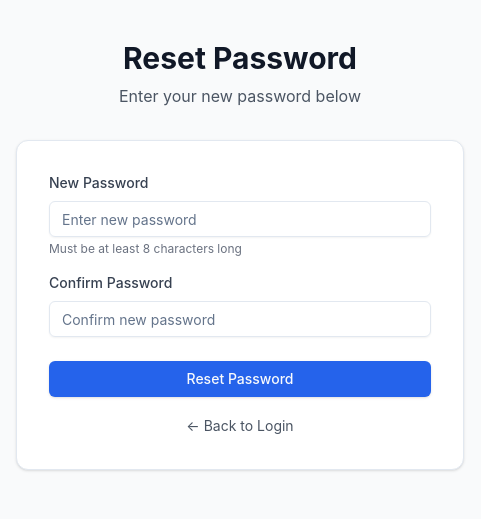
Scenario: ResetPasswordPage - Form Validation › should show error when passwords do not match
The width and height of the screenshot is (481, 519).
Type "password123" into the password field with test id "password-input" at (240, 219), box [49,201,431,237]
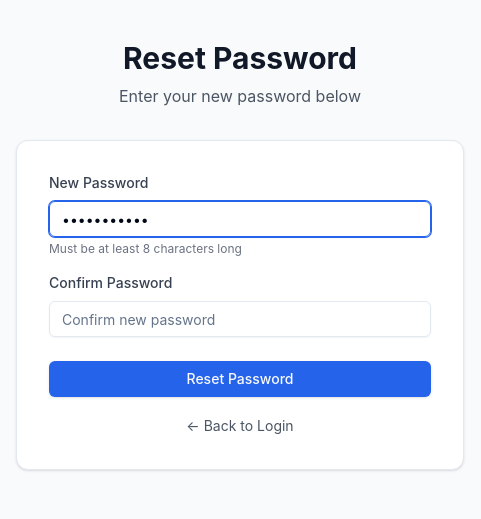
Type "different123" into the password field with test id "confirm-password-input" at (240, 319), box [49,301,431,337]
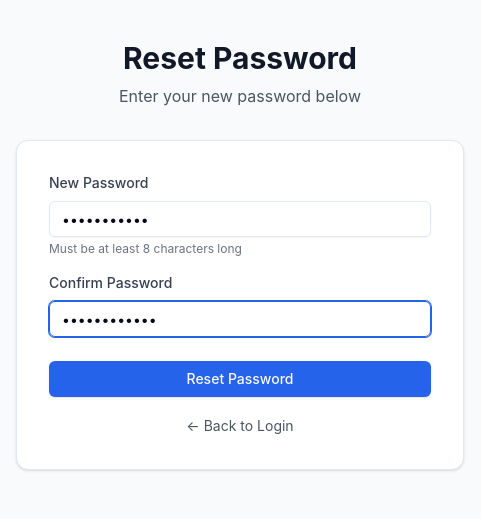
Click the button with test id "submit-button" at (240, 379), box [49,361,431,397]
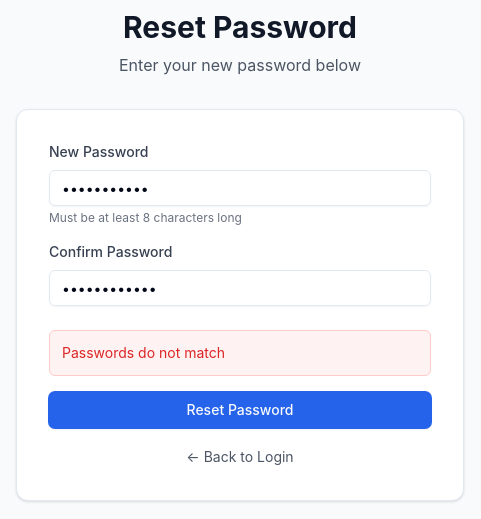
Expected: the text "Passwords do not match" is shown, [62,344,225,361]
